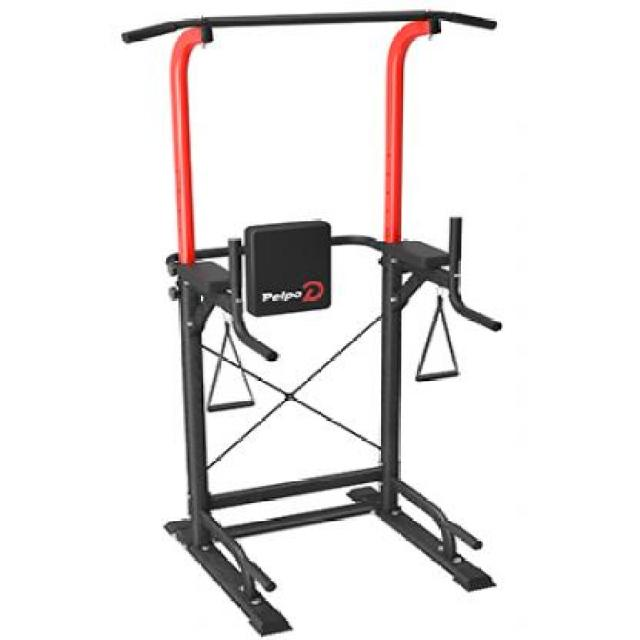chinning dipping: (125, 8, 500, 634)
